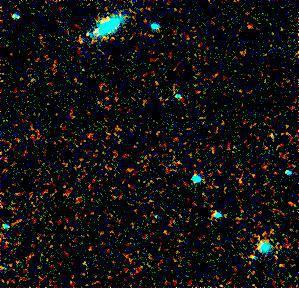star: (68, 23, 98, 53)
